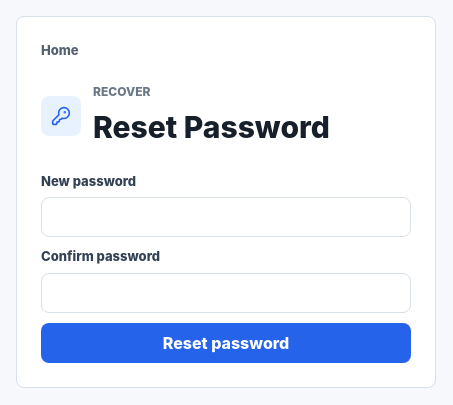
Test: Authentication workflows › submits a valid password reset and displays success
In the password field labelled "New password": (226, 217) top-left (41, 197), bottom-right (411, 237), type "NewPassword!123"
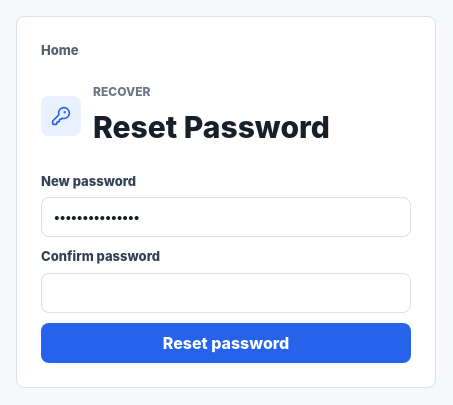
In the password field labelled "Confirm password": (226, 293) top-left (41, 273), bottom-right (411, 313), type "NewPassword!123"
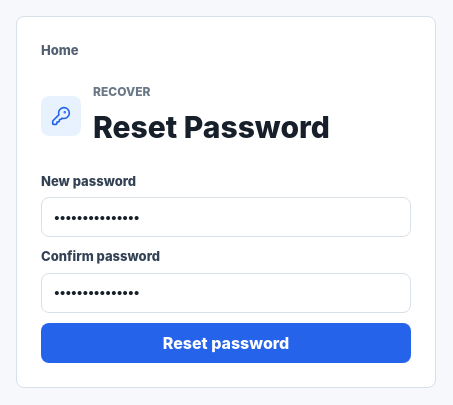
Click the button "Reset password": (226, 343) top-left (41, 323), bottom-right (411, 363)
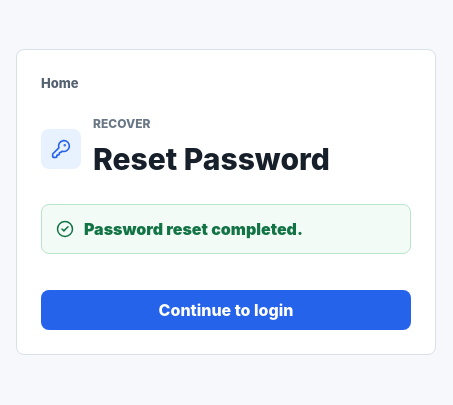
Expected: the text "Password reset completed." is shown, top-left (84, 217), bottom-right (303, 241)
Expected: the link "Continue to login" is shown, top-left (41, 290), bottom-right (411, 330)
